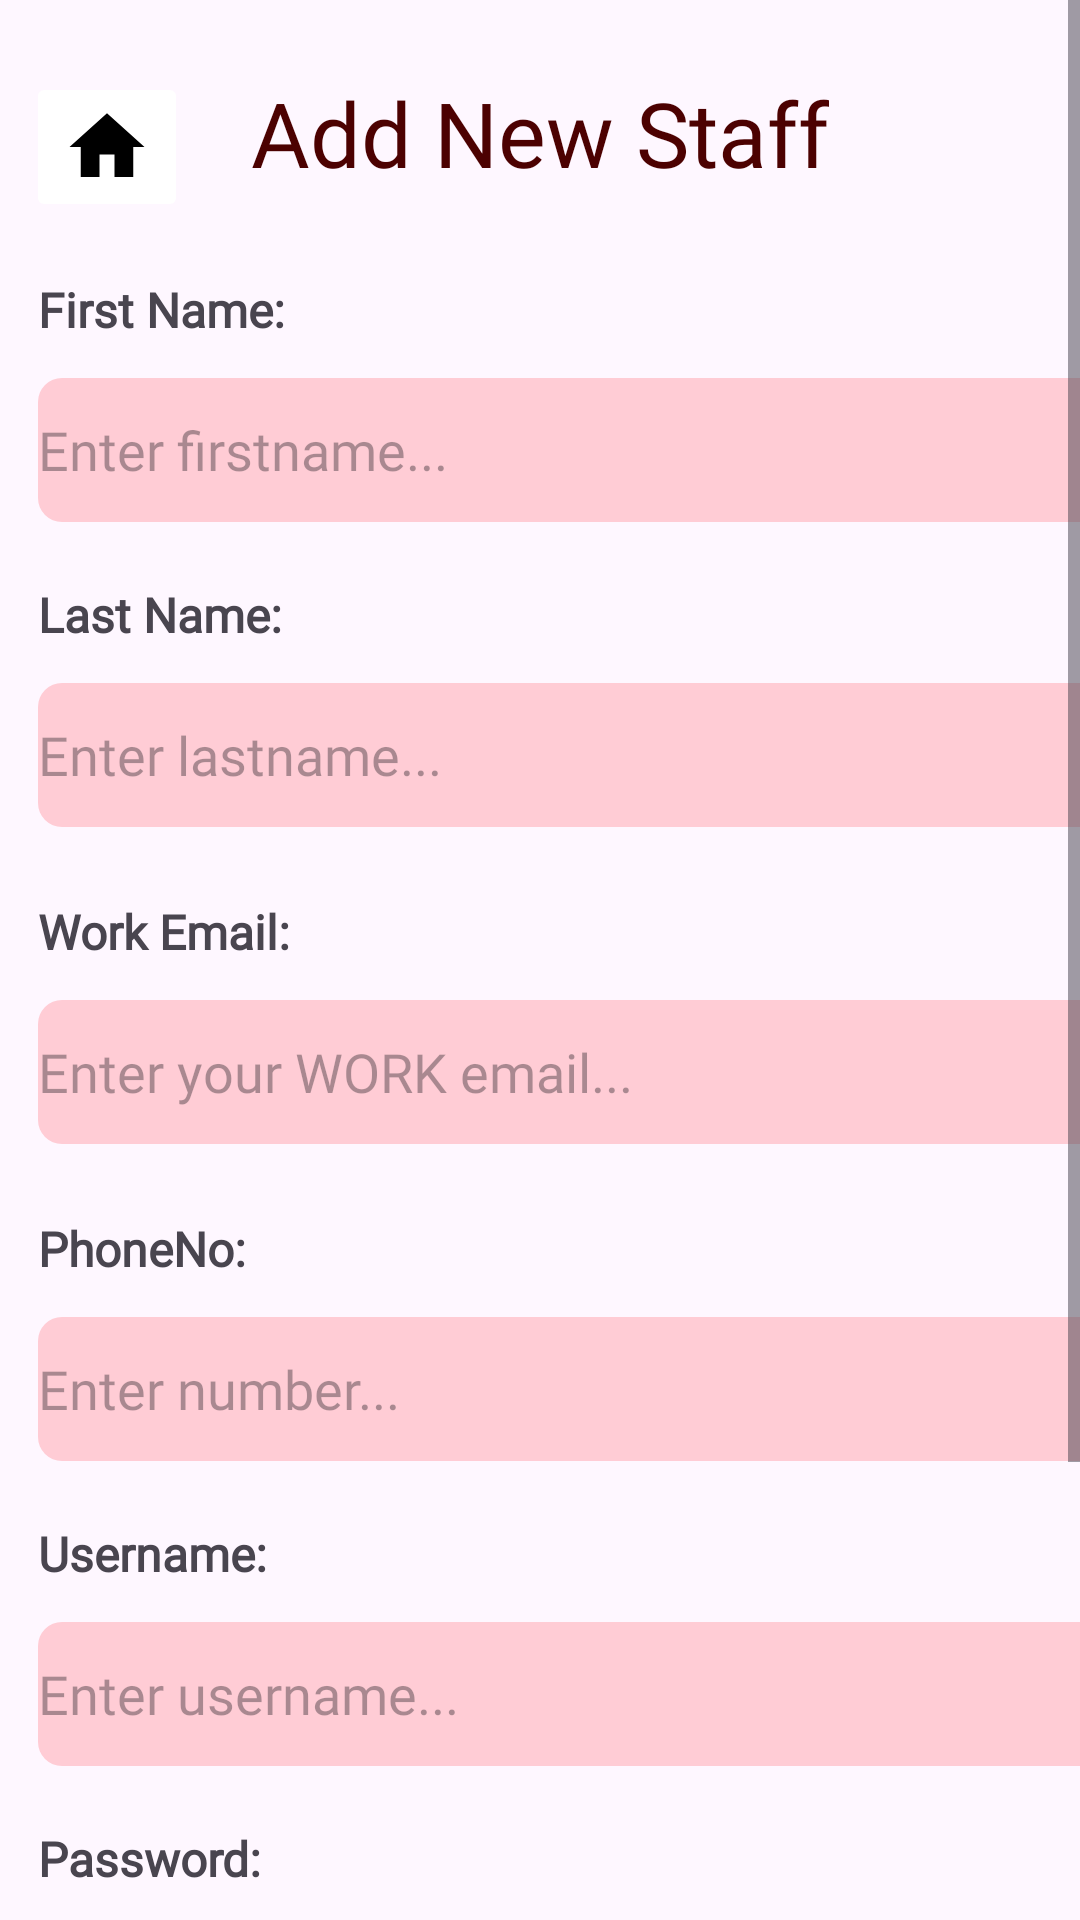

Screen size 1080*1920. Icon name, then its center in pixels as (x=x, y=y):
Take me home: (x=107, y=145)
